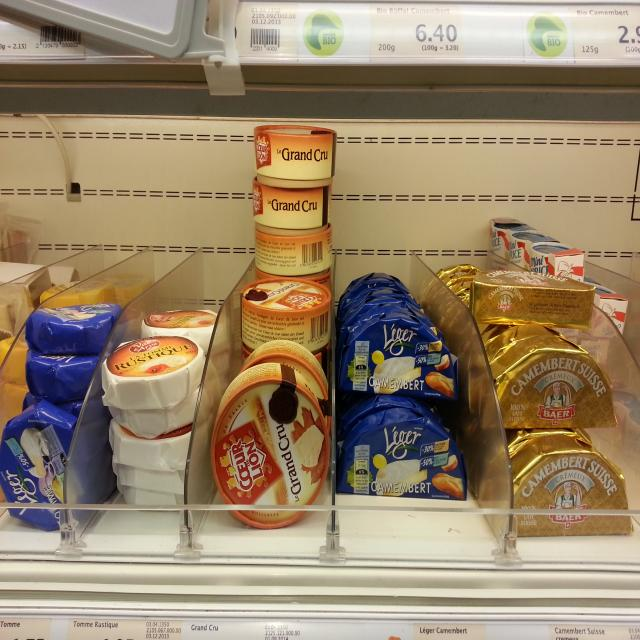Cheese: (205, 363, 333, 532), (489, 446, 640, 542), (334, 403, 471, 501), (0, 405, 95, 538), (482, 336, 622, 426), (337, 316, 470, 406), (98, 330, 212, 416), (235, 271, 338, 357), (466, 266, 597, 326), (490, 216, 586, 280), (27, 302, 125, 350), (250, 125, 339, 177), (248, 178, 330, 234), (139, 309, 219, 354)
